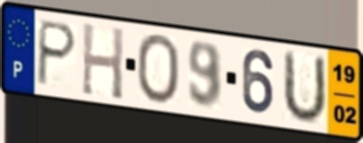6: (240, 47, 276, 118)
9: (186, 39, 224, 112)
H: (80, 20, 126, 103)
O: (135, 32, 182, 107)
P: (34, 17, 80, 89)
U: (280, 48, 329, 126)
